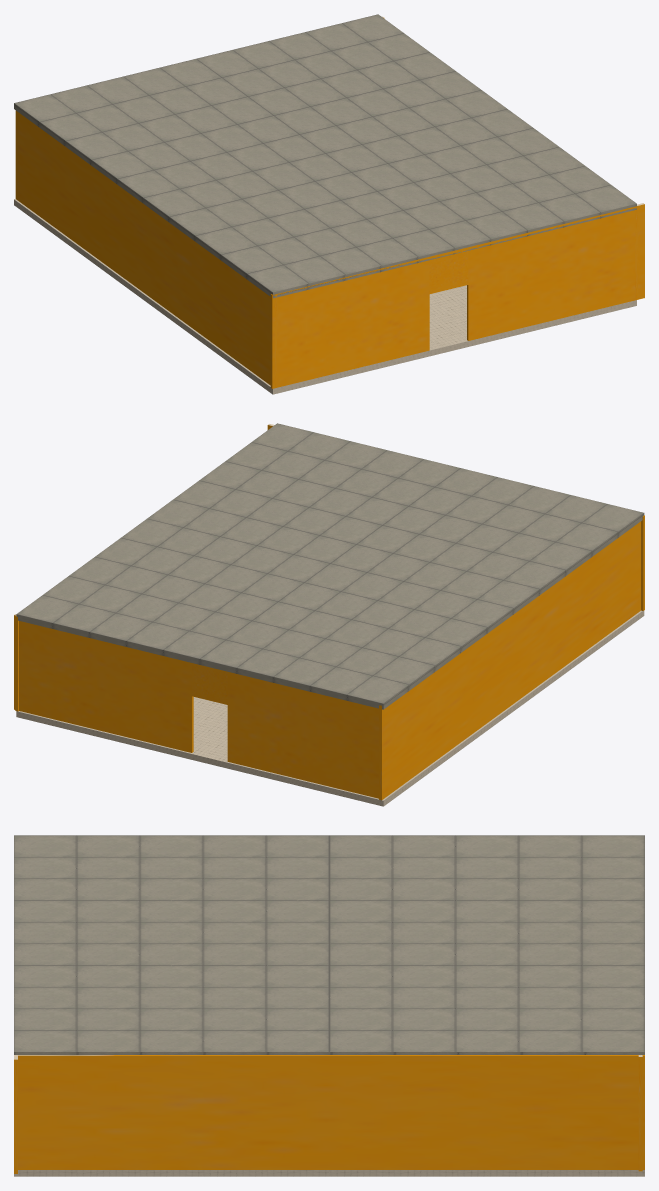
File: GroceryModelfrfr.FBX
3 renders of one model, top to bottom at view 1: azimuth 30°, elevation 25°; view 2: azimuth 150°, elevation 25°; view 3: azimuth 270°, elevation 25°, orthographic. The views are drawn at different scales.
Visible parts, largest first — view 1: Floor2, SM_Cube20, SM_Cube25, SM_Cube19, Floor, SM_Cube26; view 2: Floor2, SM_Cube20, SM_Cube23, SM_Cube18, Floor, SM_Cube24; view 3: Floor2, SM_Cube17, Floor, SM_Cube23.
Boxes of the visible parts, <box> form: Floor2: <box>14,14,636,298</box>; SM_Cube20: <box>15,110,277,387</box>; SM_Cube25: <box>467,203,644,340</box>; SM_Cube19: <box>270,257,429,388</box>; Floor: <box>14,199,636,394</box>; SM_Cube26: <box>429,247,468,294</box>; Floor2: <box>16,423,644,709</box>; SM_Cube20: <box>379,521,640,800</box>; SM_Cube23: <box>14,614,193,752</box>; SM_Cube18: <box>227,672,384,798</box>; Floor: <box>16,610,644,806</box>; SM_Cube24: <box>192,663,227,704</box>; Floor2: <box>14,835,644,1054</box>; SM_Cube17: <box>14,1055,644,1169</box>; Floor: <box>14,1170,644,1176</box>; SM_Cube23: <box>638,1055,642,1171</box>.
Size of what is drawn, in the model's own units: 3325 by 4000 by 870.
3 materials, 3 textured.
